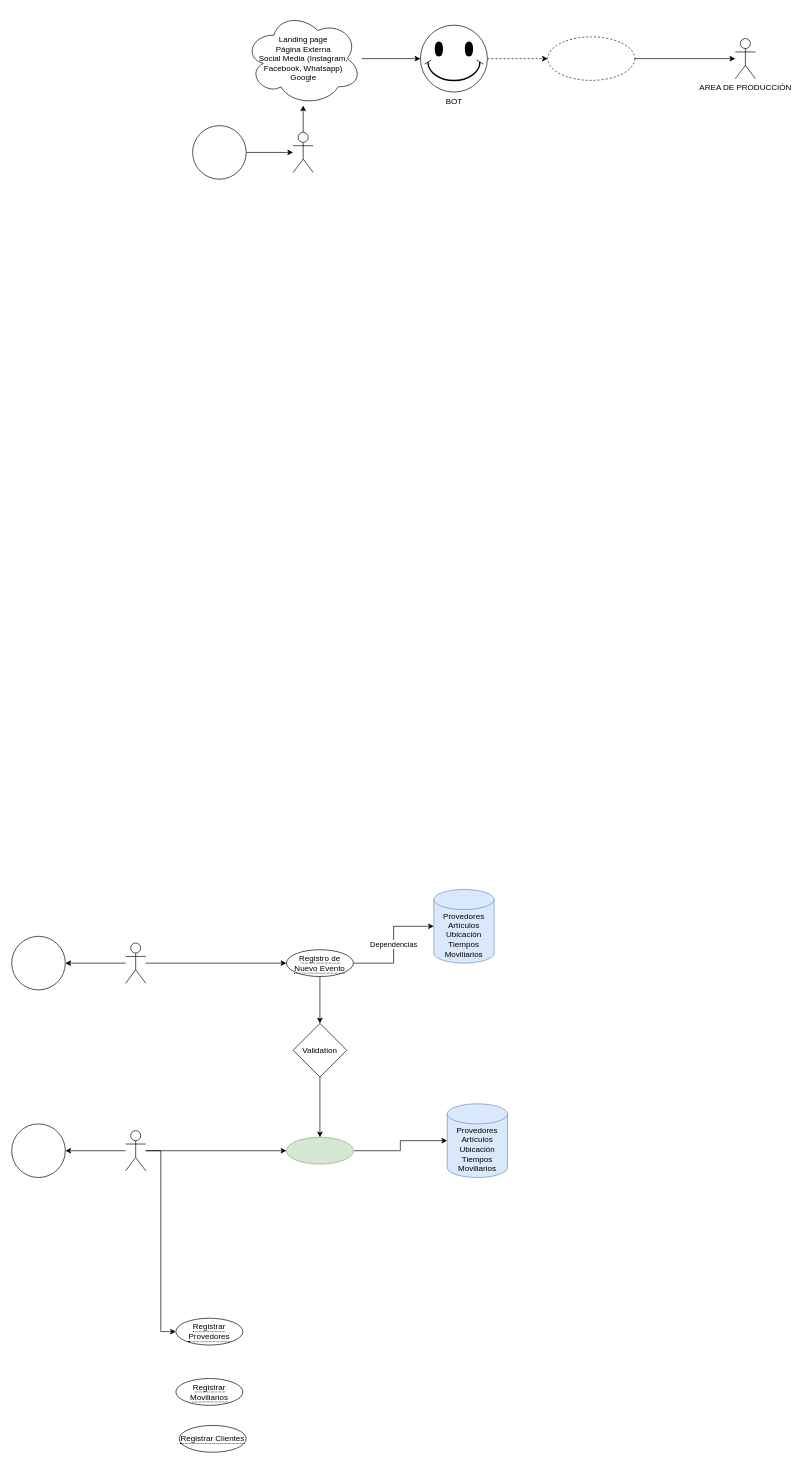
This 803x1464 diagram has some shape labels left out. The shapes that lost their labels are listed below. From the top down, each one's centre as x and y in pixels, then its label:
At (591,58): "Recopilar información del evento Brindar Cotizacion".
At (302,152): "Cliente".
At (135,962): "Client".
At (135,1150): "Supervisor".
At (319,1150): "Evento".
